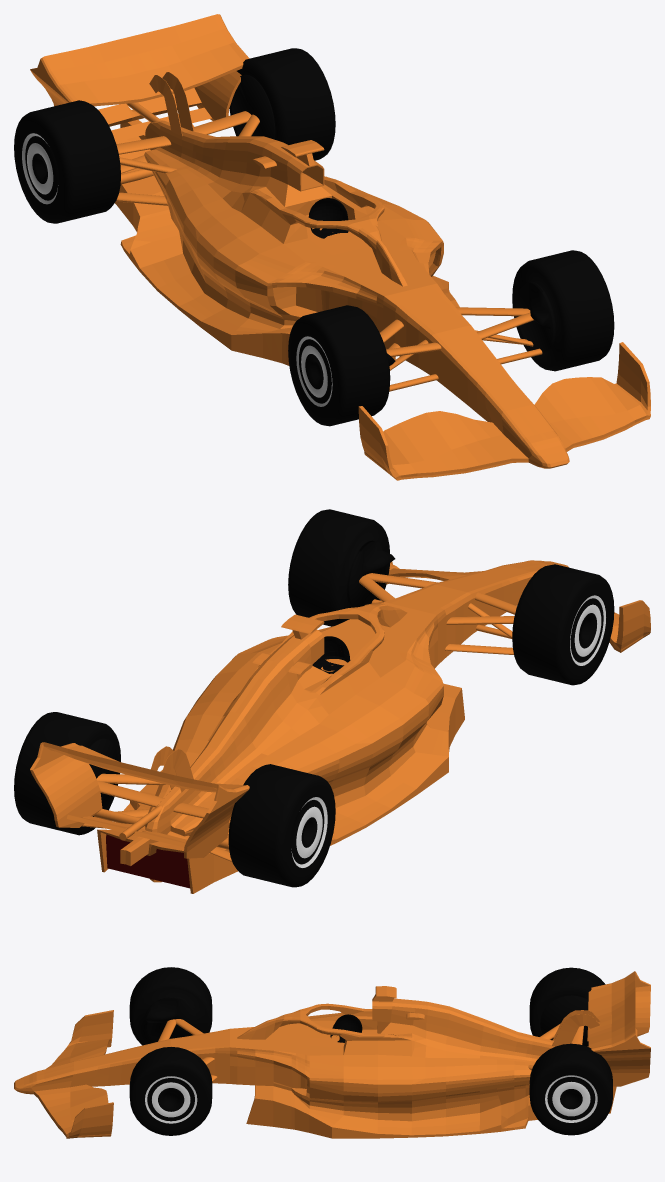
File: car.glb
3 renders of one model, top to bottom at view 1: azimuth 30°, elevation 25°; view 2: azimuth 150°, elevation 25°; view 3: azimuth 270°, elevation 25°, orthographic. The views are drawn at different scales.
Parts seen in each view (by area): view 1: Body, WheelBR, WheelFR, WheelFL, WheelBL; view 2: Body, WheelBR, WheelFR, WheelFL, WheelBL; view 3: Body, WheelBL, WheelFL, WheelFR, WheelBR.
Boxes of the visible parts, x1,y1,x2,y2 form: Body: [30, 14, 650, 480]; WheelBR: [14, 100, 120, 223]; WheelFR: [288, 305, 395, 426]; WheelFL: [512, 250, 614, 371]; WheelBL: [229, 48, 335, 160]; Body: [30, 560, 650, 893]; WheelBR: [228, 764, 335, 887]; WheelFR: [512, 564, 614, 685]; WheelFL: [288, 509, 395, 626]; WheelBL: [14, 712, 120, 835]; Body: [14, 971, 650, 1138]; WheelBL: [529, 1043, 612, 1135]; WheelFL: [129, 1047, 212, 1135]; WheelFR: [129, 967, 212, 1045]; WheelBR: [529, 967, 605, 1046].
Size of what is drawn, in the model's own units: 1.64 by 1.13 by 4.58.
8 materials, 5 textured.
